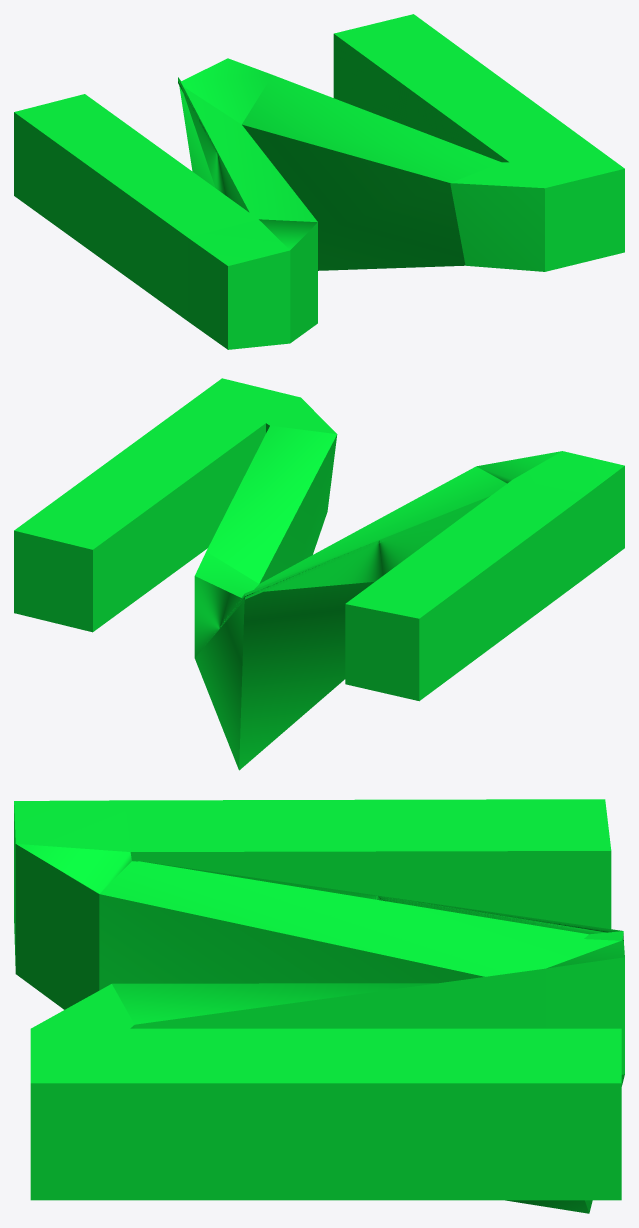
File: LetterM.obj
3 renders of one model, top to bottom at view 1: azimuth 30°, elevation 25°; view 2: azimuth 150°, elevation 25°; view 3: azimuth 270°, elevation 25°, orthographic. The views are drawn at different scales.
Parts seen in each view (by area): view 1: LetterM; view 2: LetterM; view 3: LetterM.
Part boxes in pixels (x1,y1,x2,y2): LetterM: [14, 14, 624, 349]; LetterM: [14, 378, 624, 770]; LetterM: [14, 799, 624, 1213].
Bounding box in the file's own units: 5.07 × 2.44 × 4.73.
